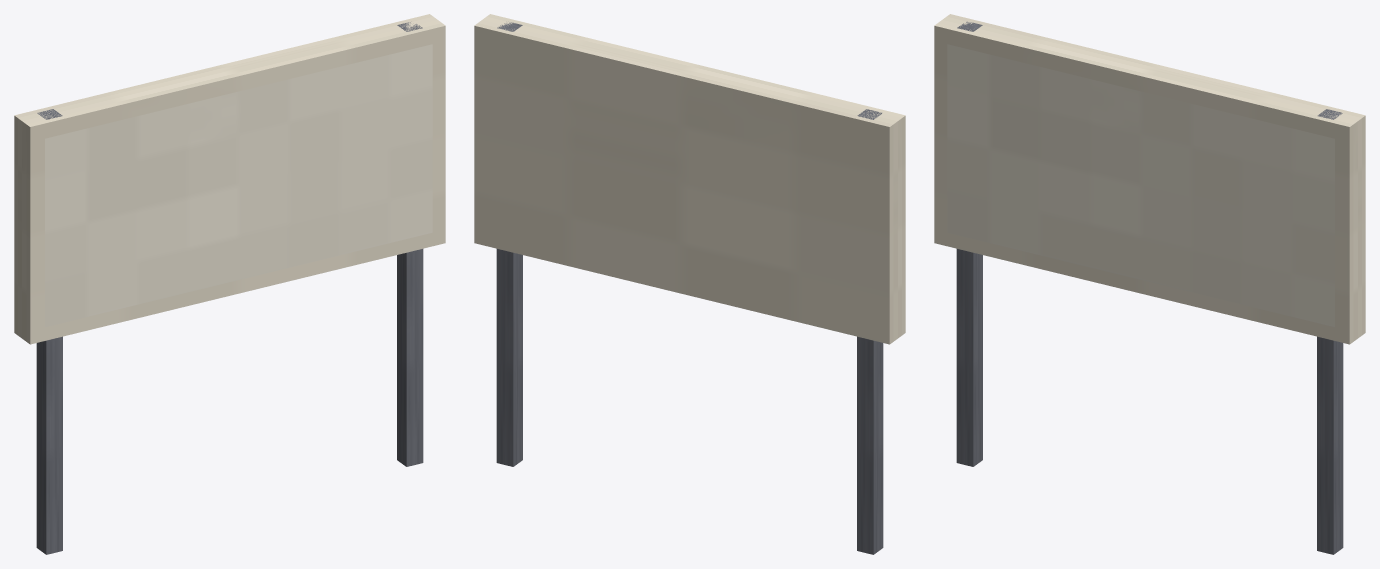
Rendered from signboard-cream-far.glb.
3 views of the same model, side by side, from view 1: azimuth 30°, elevation 25°; view 2: azimuth 150°, elevation 25°; view 3: azimuth 330°, elevation 25° (orthographic).
Visible parts, largest first — view 1: sign_1, signboard-cream-far; view 2: signboard-cream-far; view 3: sign_1, signboard-cream-far.
Boxes of the visible parts, x1,y1,x2,y2 form: sign_1: [45, 44, 432, 326]; signboard-cream-far: [14, 14, 445, 554]; signboard-cream-far: [474, 14, 905, 554]; sign_1: [947, 44, 1334, 326]; signboard-cream-far: [934, 14, 1365, 554].
Bounding box in the file's own units: 3 × 3 × 0.21.
Materials: 1 (1 with a texture image).
